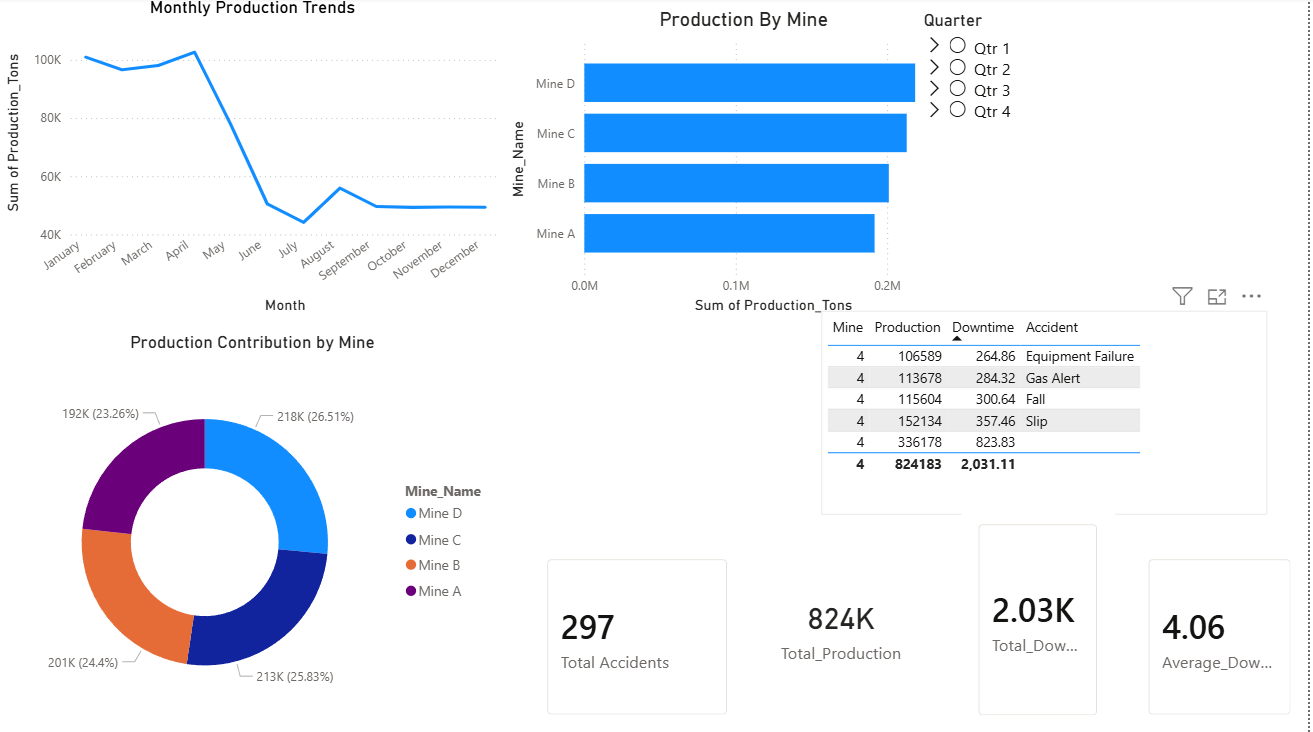

The page's visual inventory and layout, read from the dashboard file:
{"tool":"powerbi","page":{"name":"Executive Summary","canvas":[1280,720],"ordinal":0},"visuals":[{"type":"lineChart","title":"Monthly Production Trends","fields":{"Category":["Mining_Data.Date.Variation.Date Hierarchy.Month"],"Y":["Sum(Mining_Data.Production_Tons)"]},"box":[0,0,494,314.3],"z":0},{"type":"clusteredBarChart","title":"Production By  Mine","fields":{"Y":["Sum(Mining_Data.Production_Tons)"],"Category":["Mining_Data.Mine_Name"]},"box":[494,11,467.1,303.3],"z":1000},{"type":"donutChart","title":"Production Contribution by Mine","fields":{"Category":["Mining_Data.Mine_Name"],"Y":["Sum(Mining_Data.Production_Tons)"]},"box":[0,327.7,494,392.5],"z":2000},{"type":"tableEx","fields":{"Values":["Mining_Data.Mine_Name","Sum(Mining_Data.Production_Tons)","Sum(Mining_Data.Downtime_Hours)","Mining_Data.Accident_Type"]},"box":[803.3,306.7,436.7,200],"z":3000},{"type":"listSlicer","fields":{"Values":["Mining_Data.Date.Variation.Date Hierarchy.Quarter","Mining_Data.Mine_Name","Mining_Data.Shift"]},"box":[898.3,11.7,381.7,205],"z":4000},{"type":"card","fields":{"Values":["Mining_Data.Total_Production"]},"box":[728.3,515,188.3,205],"z":5000},{"type":"cardVisual","fields":{"Data":["Mining_Data.Total_Downtime"]},"box":[940,498.3,150,221.7],"z":6000},{"type":"cardVisual","fields":{"Data":["Mining_Data.Total Accidents"]},"box":[518.3,533.3,210,186.7],"z":7000},{"type":"cardVisual","fields":{"Data":["Mining_Data.Average_Downtime"]},"box":[1106.7,533.3,173.3,186.7],"z":8000}]}

Visuals, with their boxes in screenshot pixels (x1, y1, x2, y2), scaled from the page's 1280x720 canvas onto the 1313x732 screenshot:
"Monthly Production Trends" lineChart: {"left": 0, "top": 0, "right": 507, "bottom": 320}
"Production By  Mine" clusteredBarChart: {"left": 507, "top": 11, "right": 986, "bottom": 320}
"Production Contribution by Mine" donutChart: {"left": 0, "top": 333, "right": 507, "bottom": 731}
tableEx - Mining_Data.Mine_Name x Sum(Mining_Data.Production_Tons): {"left": 824, "top": 312, "right": 1272, "bottom": 515}
listSlicer - Mining_Data.Date.Variation.Date Hierarchy.Quarter x Mining_Data.Mine_Name: {"left": 921, "top": 12, "right": 1312, "bottom": 220}
card - Mining_Data.Total_Production: {"left": 747, "top": 524, "right": 940, "bottom": 731}
cardVisual - Mining_Data.Total_Downtime: {"left": 964, "top": 507, "right": 1118, "bottom": 731}
cardVisual - Mining_Data.Total Accidents: {"left": 532, "top": 542, "right": 747, "bottom": 731}
cardVisual - Mining_Data.Average_Downtime: {"left": 1135, "top": 542, "right": 1312, "bottom": 731}
